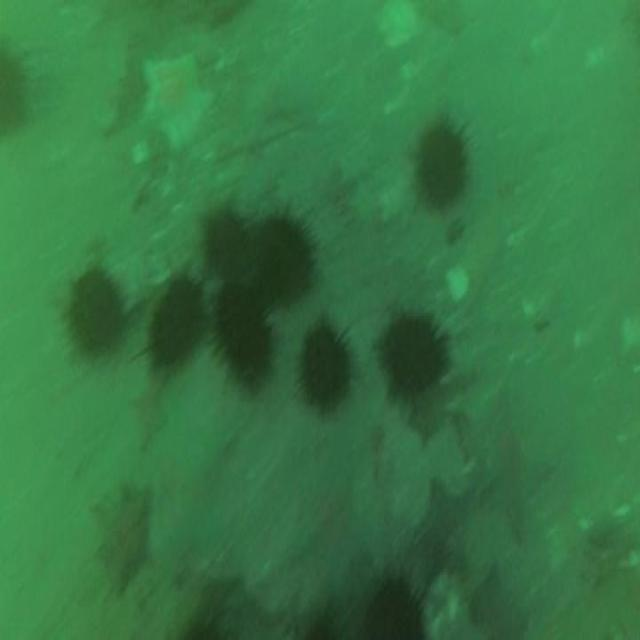echinus: (368, 300, 453, 419), (251, 192, 321, 318), (56, 250, 128, 366), (212, 277, 278, 403), (406, 103, 475, 223), (292, 305, 359, 428), (143, 267, 207, 381), (357, 562, 432, 640), (197, 193, 255, 292), (0, 22, 37, 156)
starfish: (455, 382, 556, 561), (136, 48, 212, 150), (91, 480, 153, 600), (416, 474, 475, 594), (458, 566, 530, 638), (129, 373, 171, 455), (410, 386, 452, 447)
